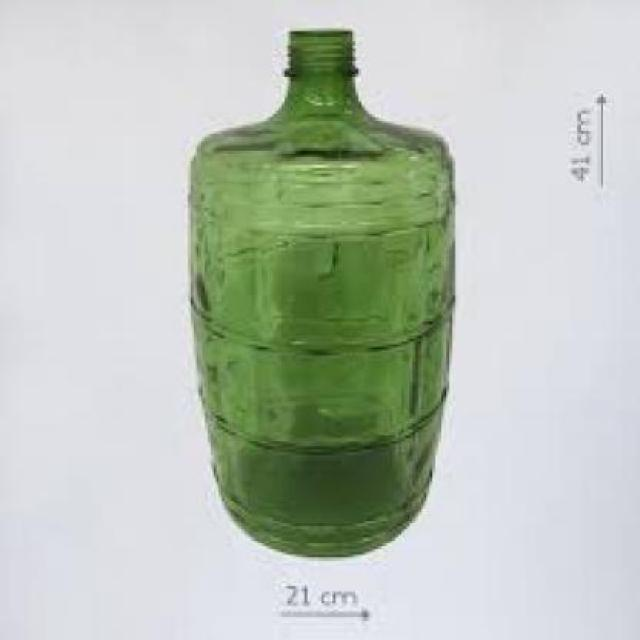kaca: (188, 29, 455, 556)
